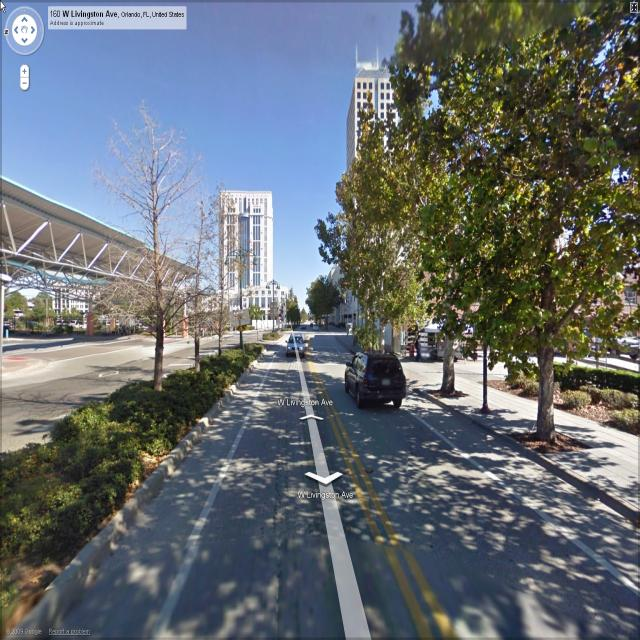b_2: (345, 47, 420, 316), (193, 157, 286, 347)
